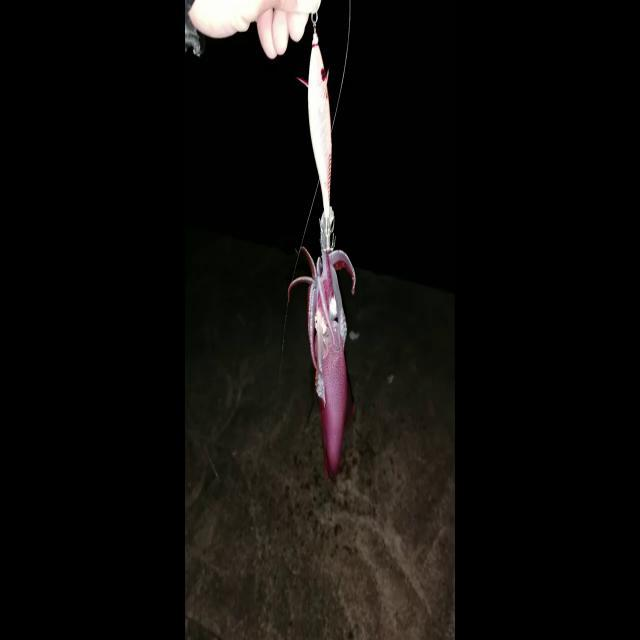squid: (286, 244, 355, 479)
